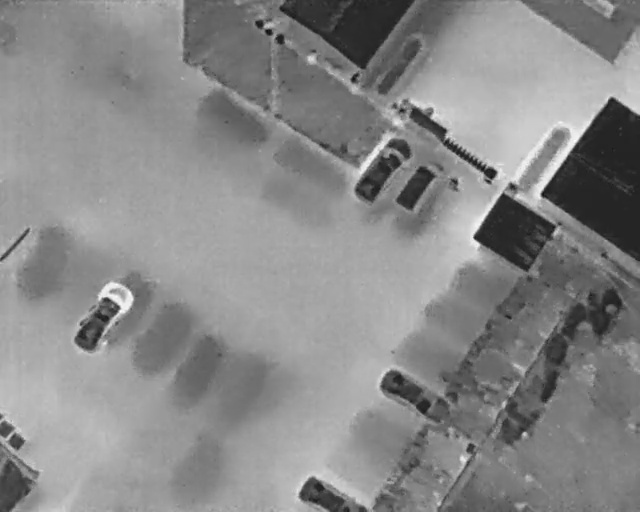Car: (68, 275, 139, 360), (349, 128, 417, 210), (375, 364, 457, 428), (297, 473, 371, 512)
